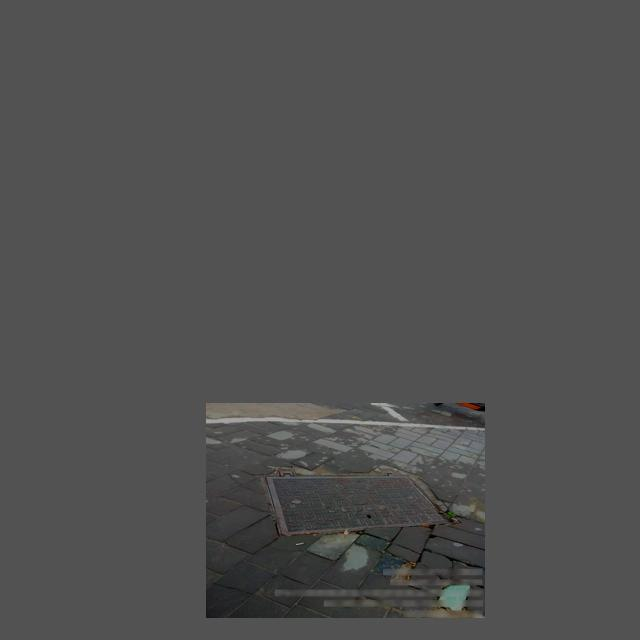good: (264, 469, 452, 537)
